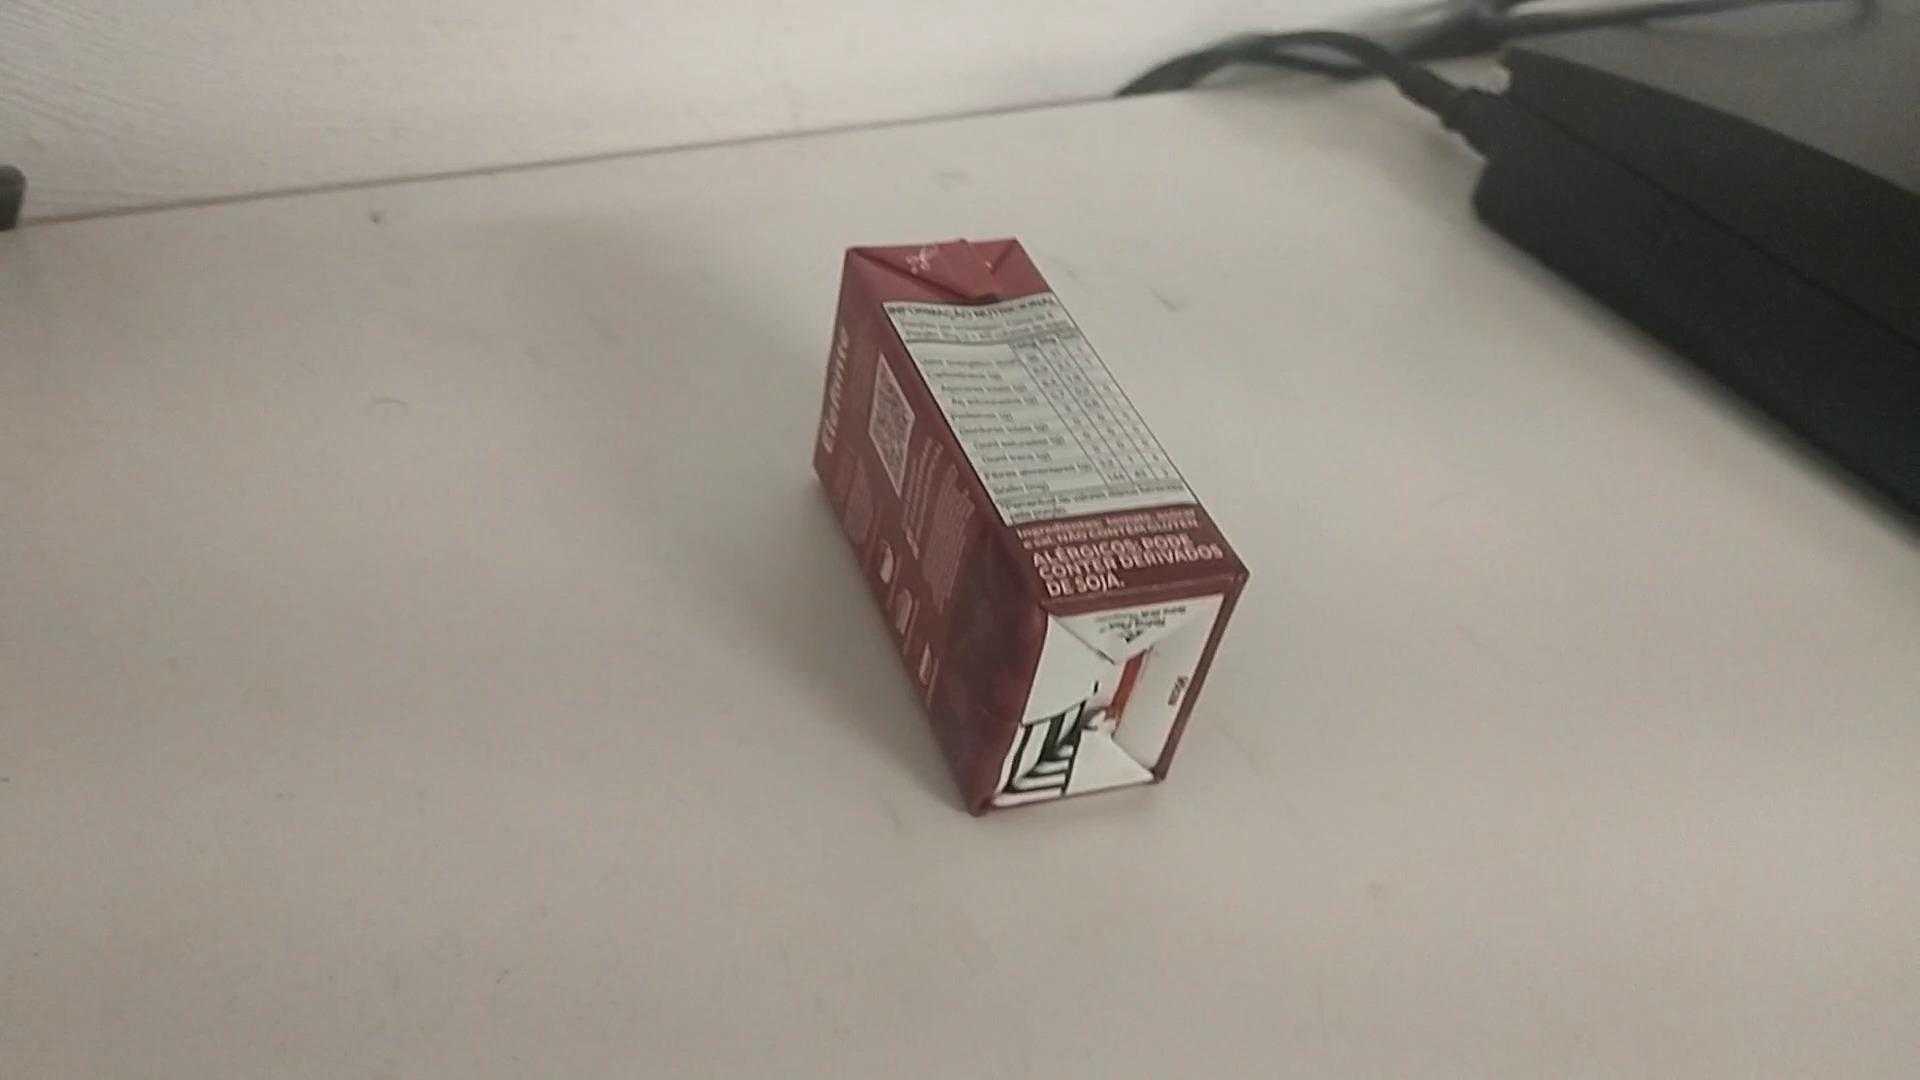tomate: (804, 223, 1262, 820)
